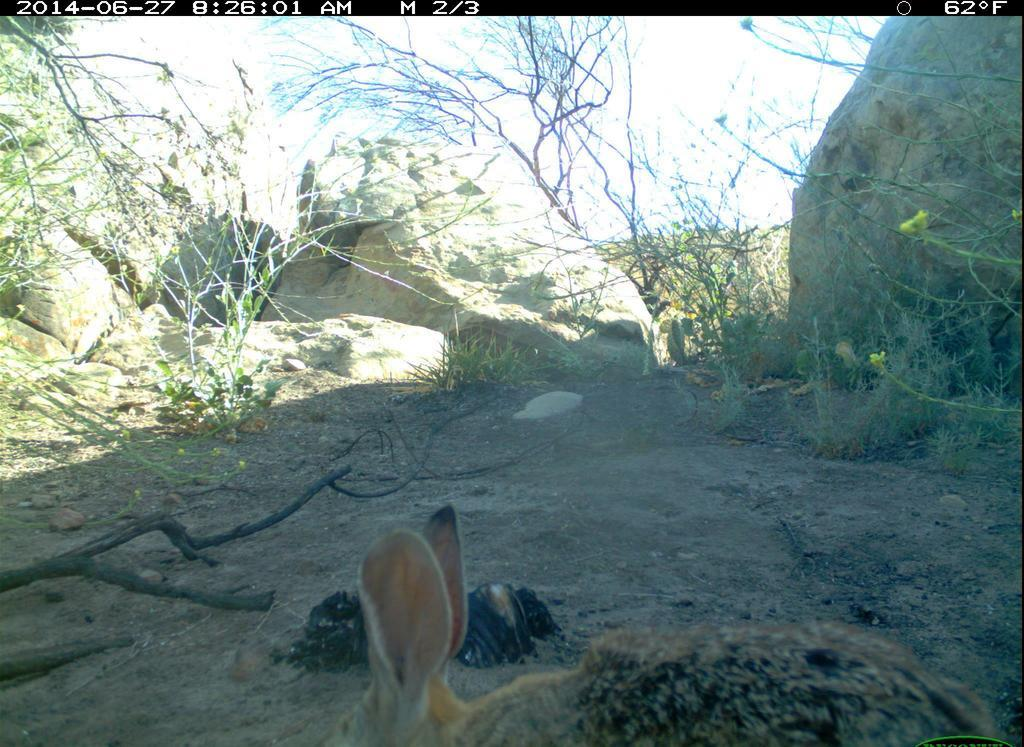rabbit: (321, 496, 1009, 747)
